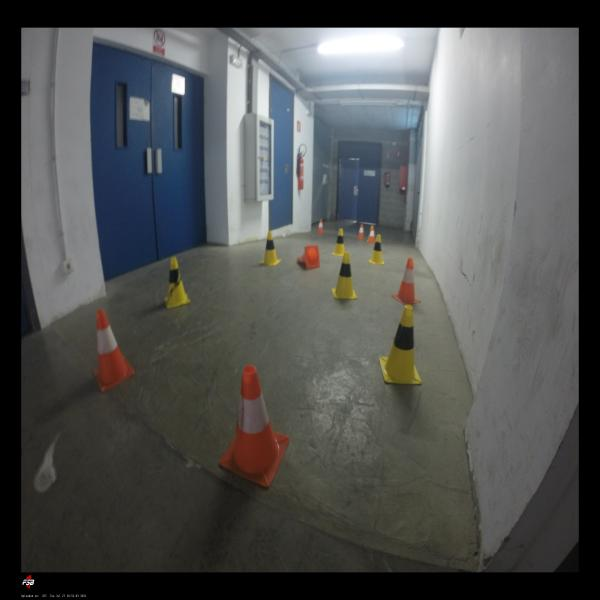orange_cone: (219, 365, 290, 487), (93, 309, 135, 393), (392, 258, 420, 305), (297, 245, 320, 269), (368, 226, 375, 244), (358, 224, 364, 239), (318, 220, 324, 234)
yellow_cone: (379, 305, 422, 384), (164, 255, 191, 308), (332, 252, 357, 299), (260, 231, 282, 266), (369, 234, 384, 265), (331, 228, 345, 256)
